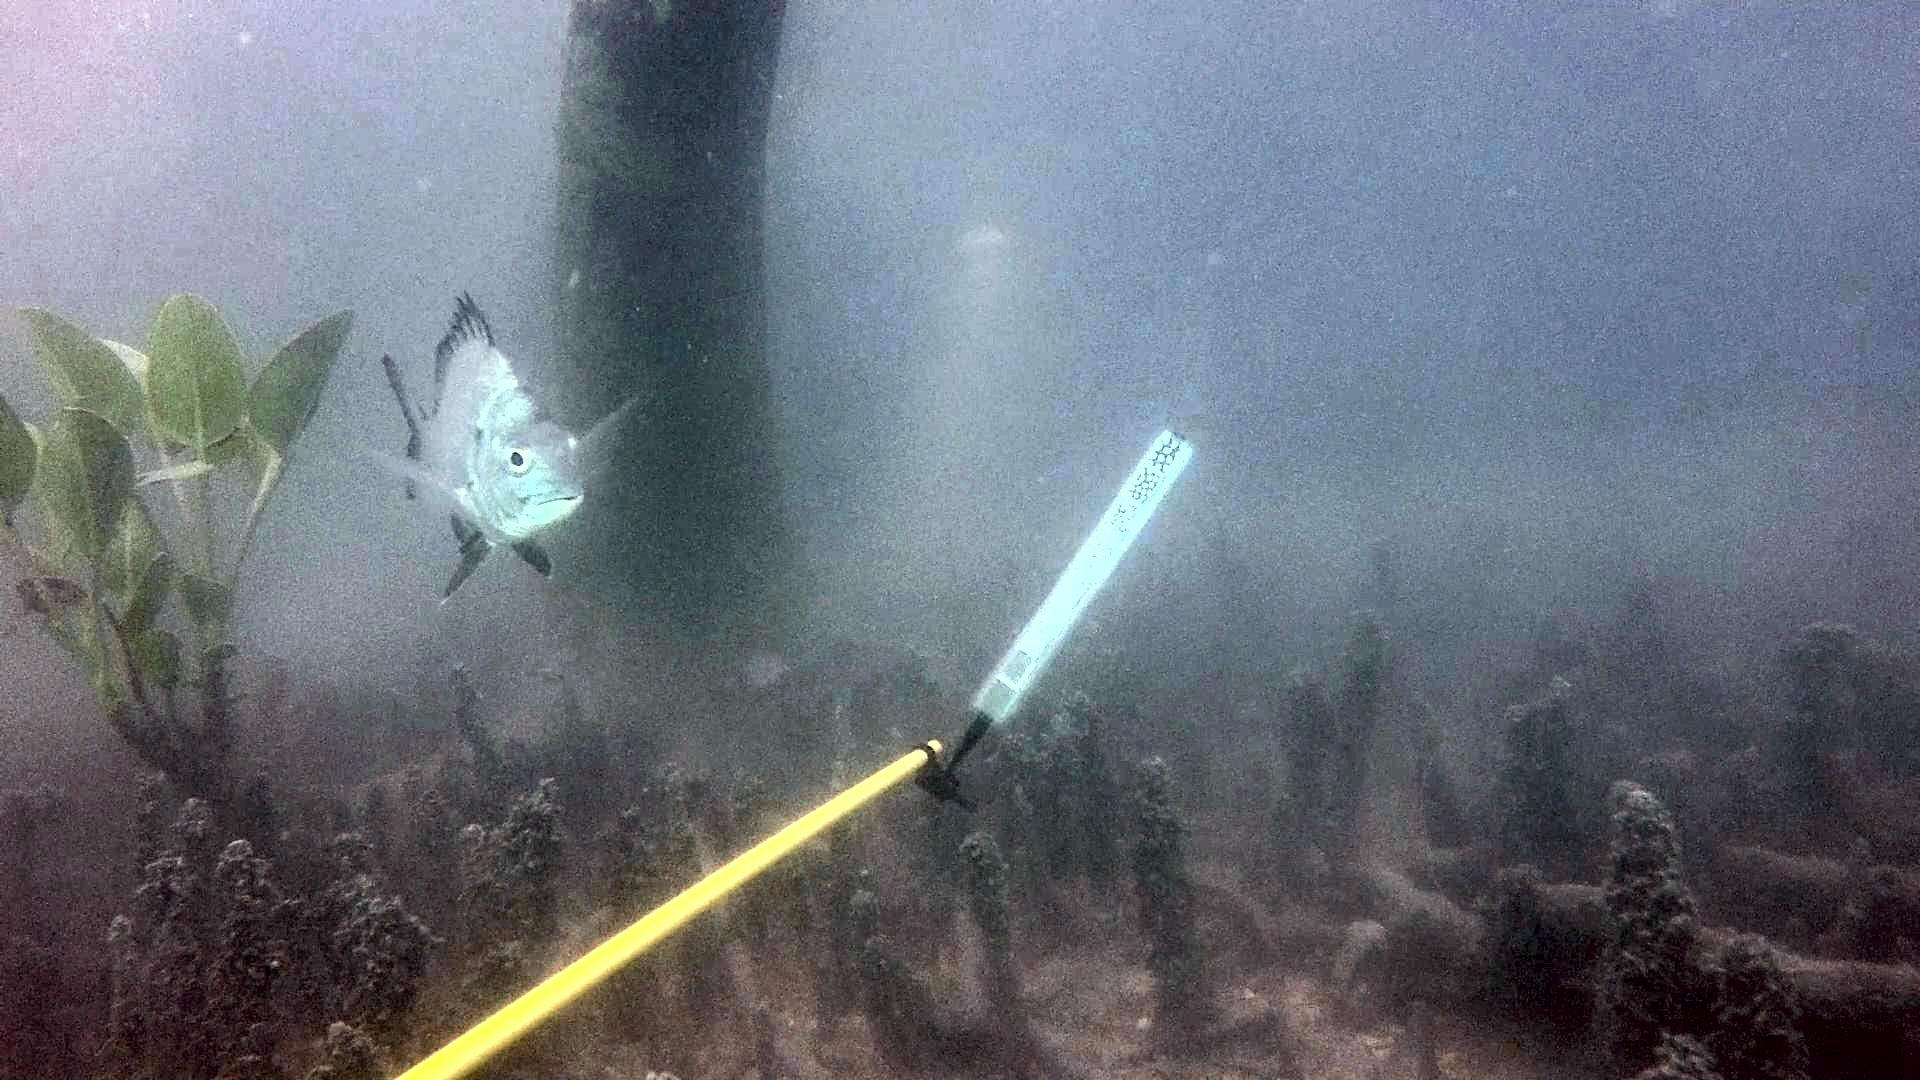acanthopagrus palmaris: (363, 281, 656, 611)
